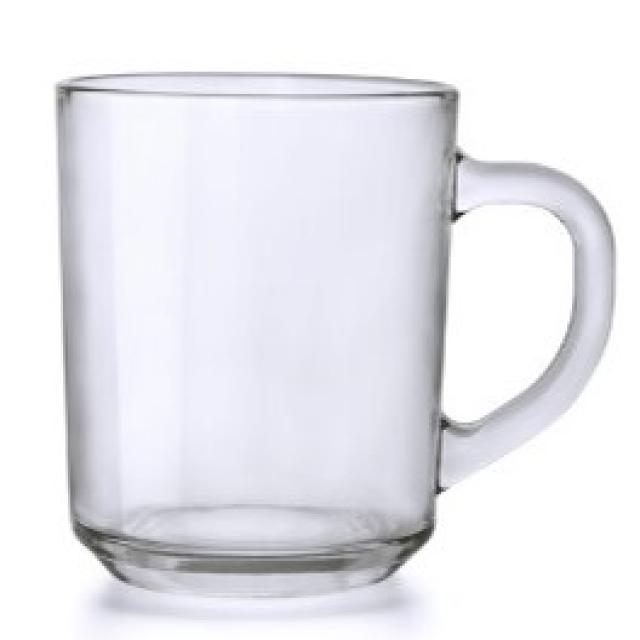electronic: (54, 70, 621, 599)
